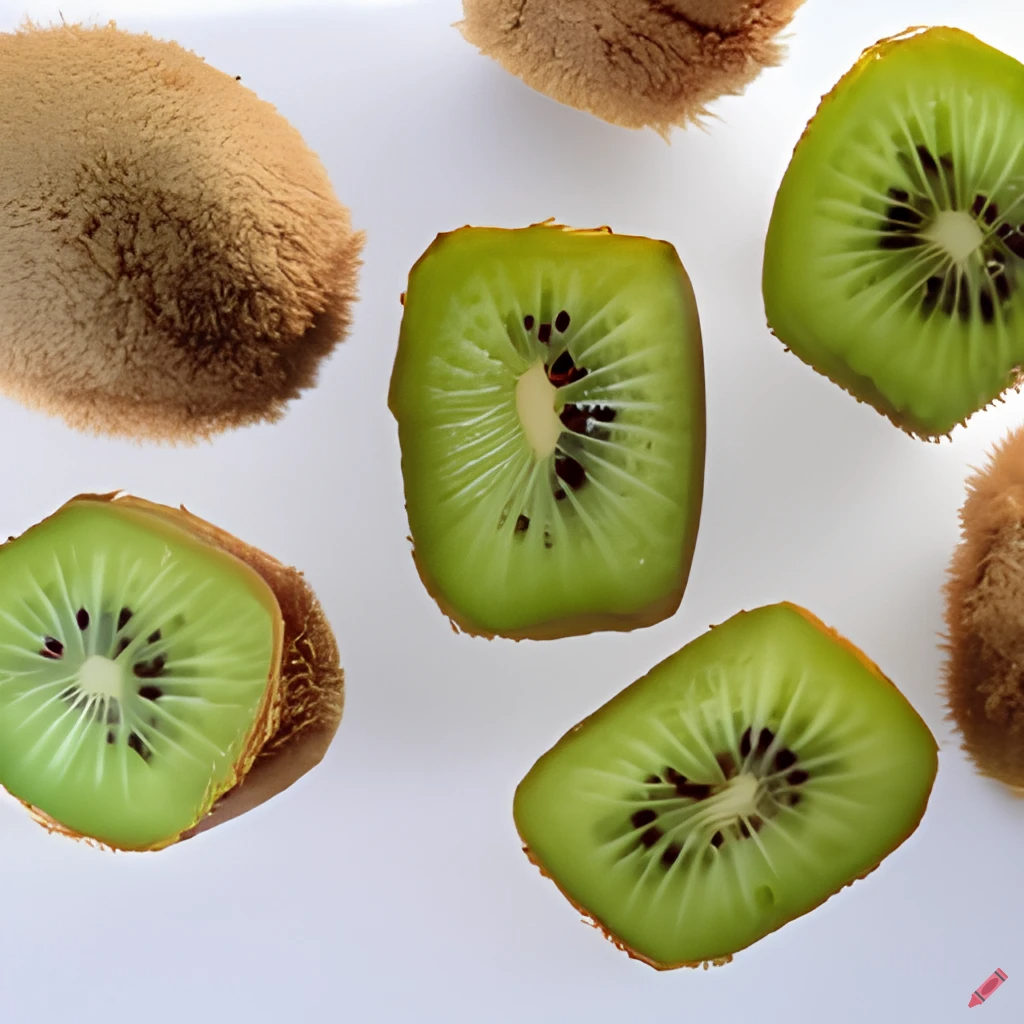Kiwi: (0, 13, 376, 470)
